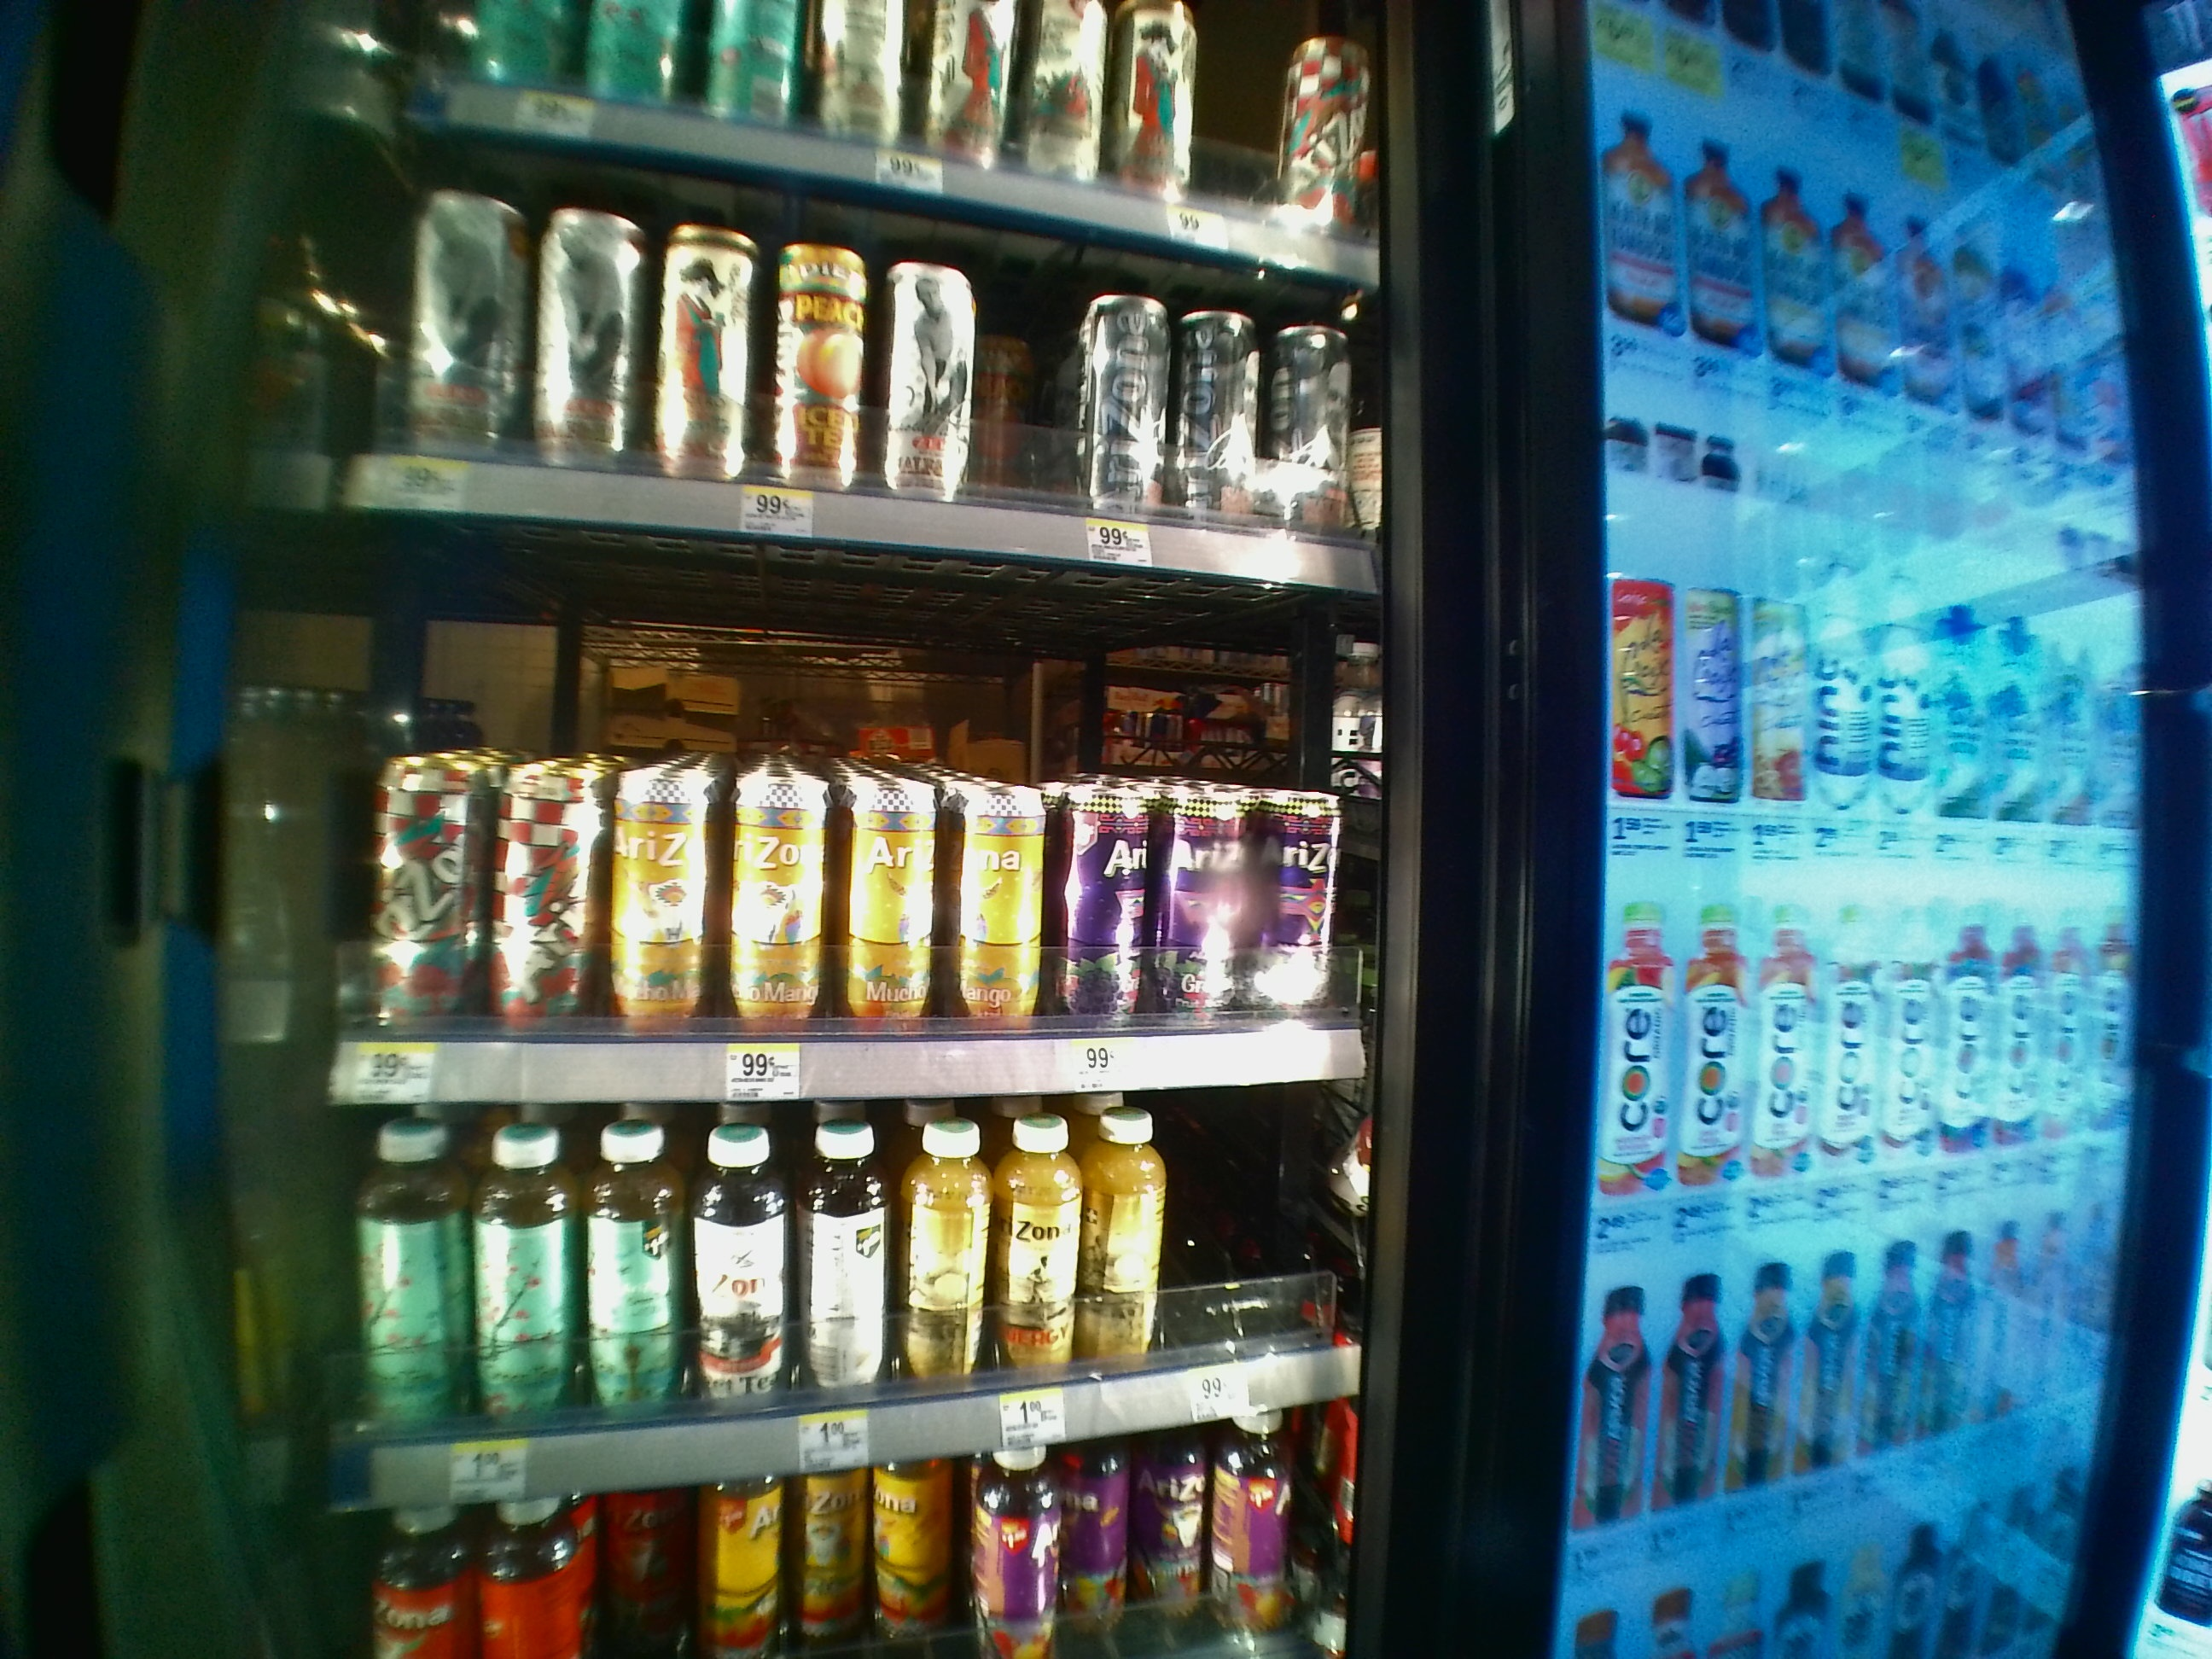shelf: (326, 521, 1378, 1098)
